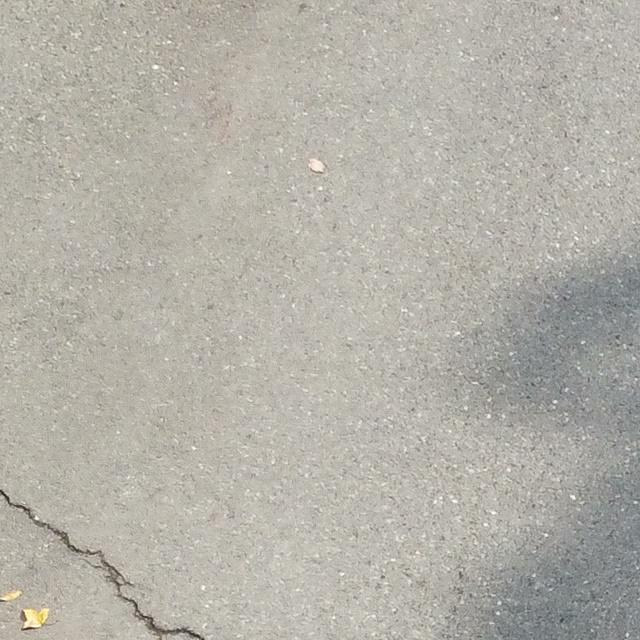TransverseCrack: (1, 487, 203, 640)
